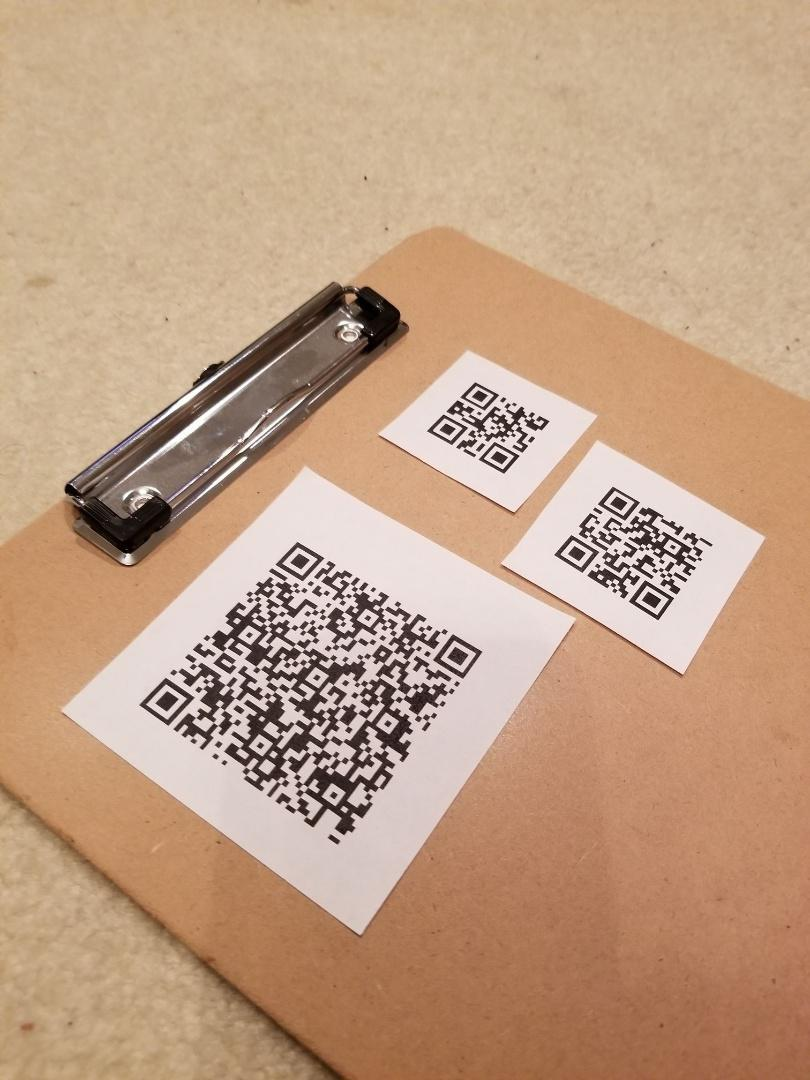Finder pattern: (142, 679, 194, 725), (432, 634, 484, 673), (631, 579, 678, 619), (551, 535, 598, 573), (279, 539, 321, 577), (598, 485, 642, 517), (479, 441, 516, 473), (426, 415, 464, 445), (459, 382, 496, 410)
